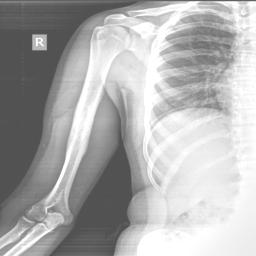cancer: (68, 82, 103, 156)
